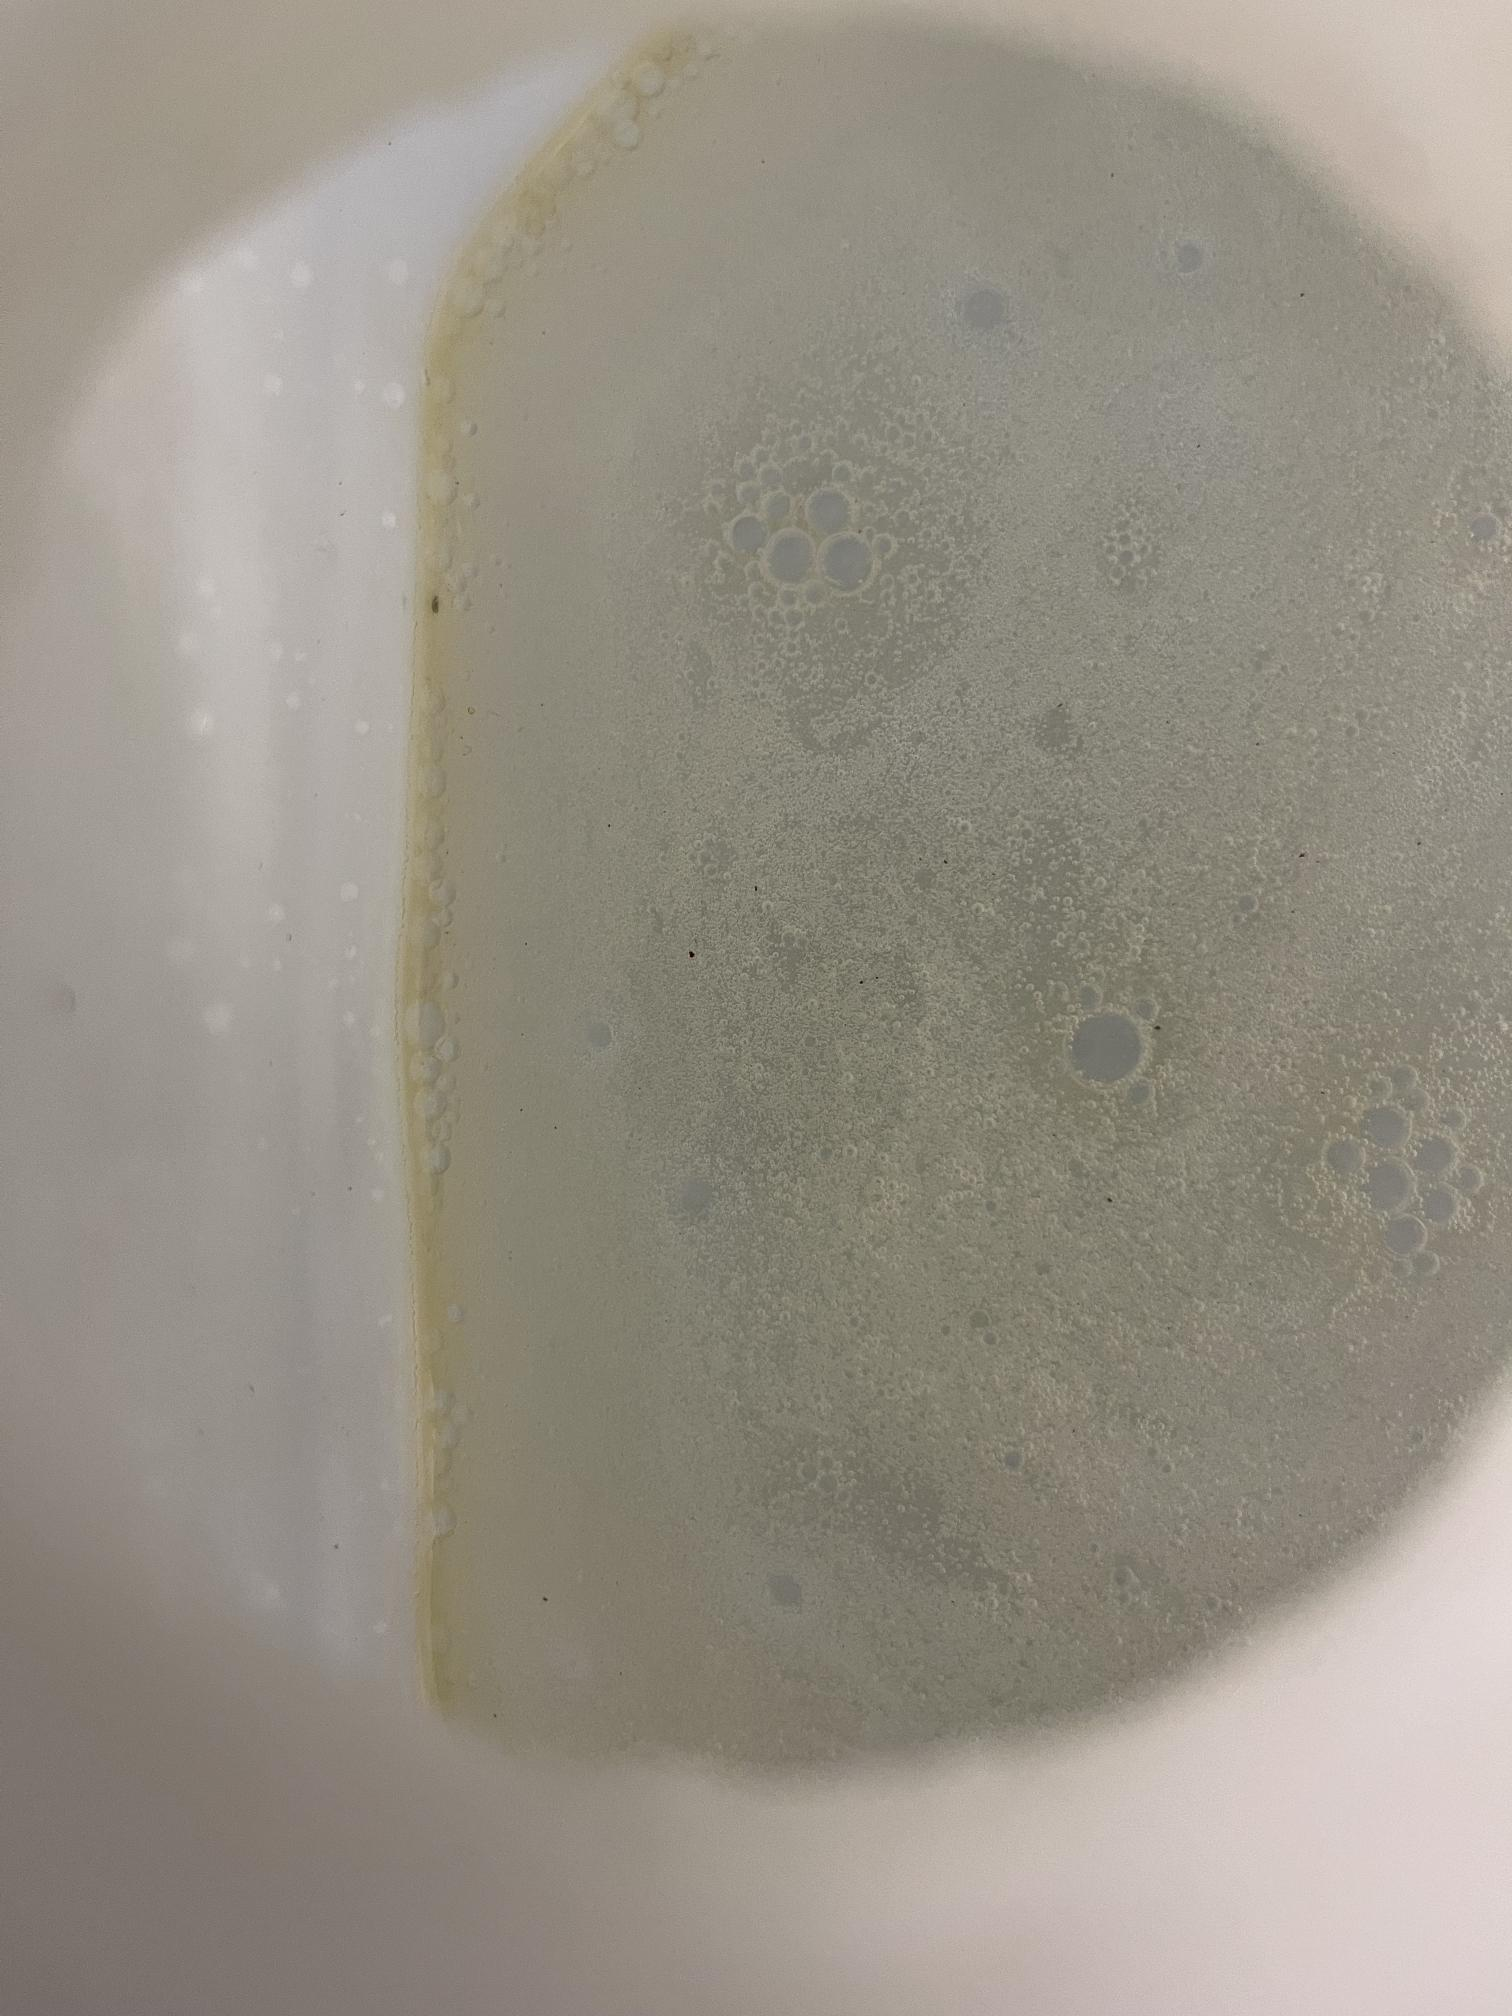Presenca de Oleo - - 200ml: (200, 95, 1471, 1845)
